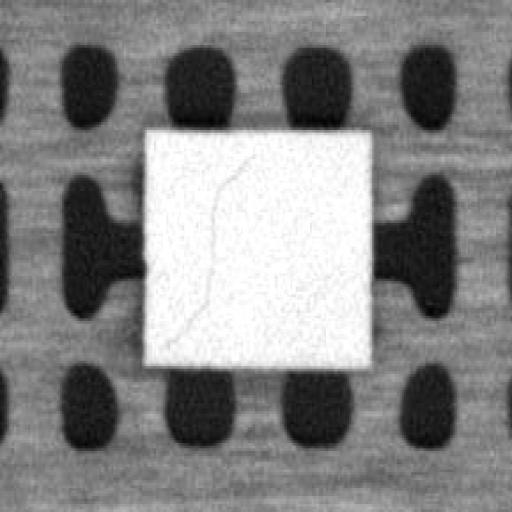DIE_CRACK: (156, 151, 246, 345)
